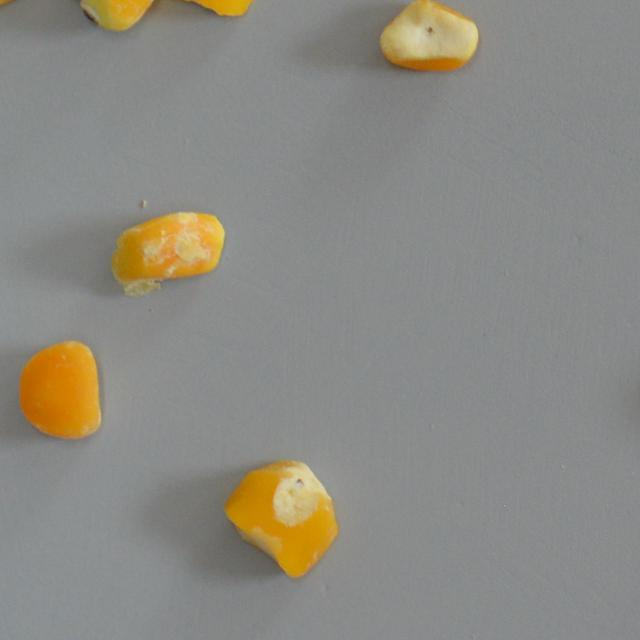dañado: (107, 210, 228, 300), (15, 335, 107, 444), (63, 0, 160, 32), (154, 0, 261, 22)
punto_negro: (220, 454, 342, 582), (374, 0, 486, 76)
